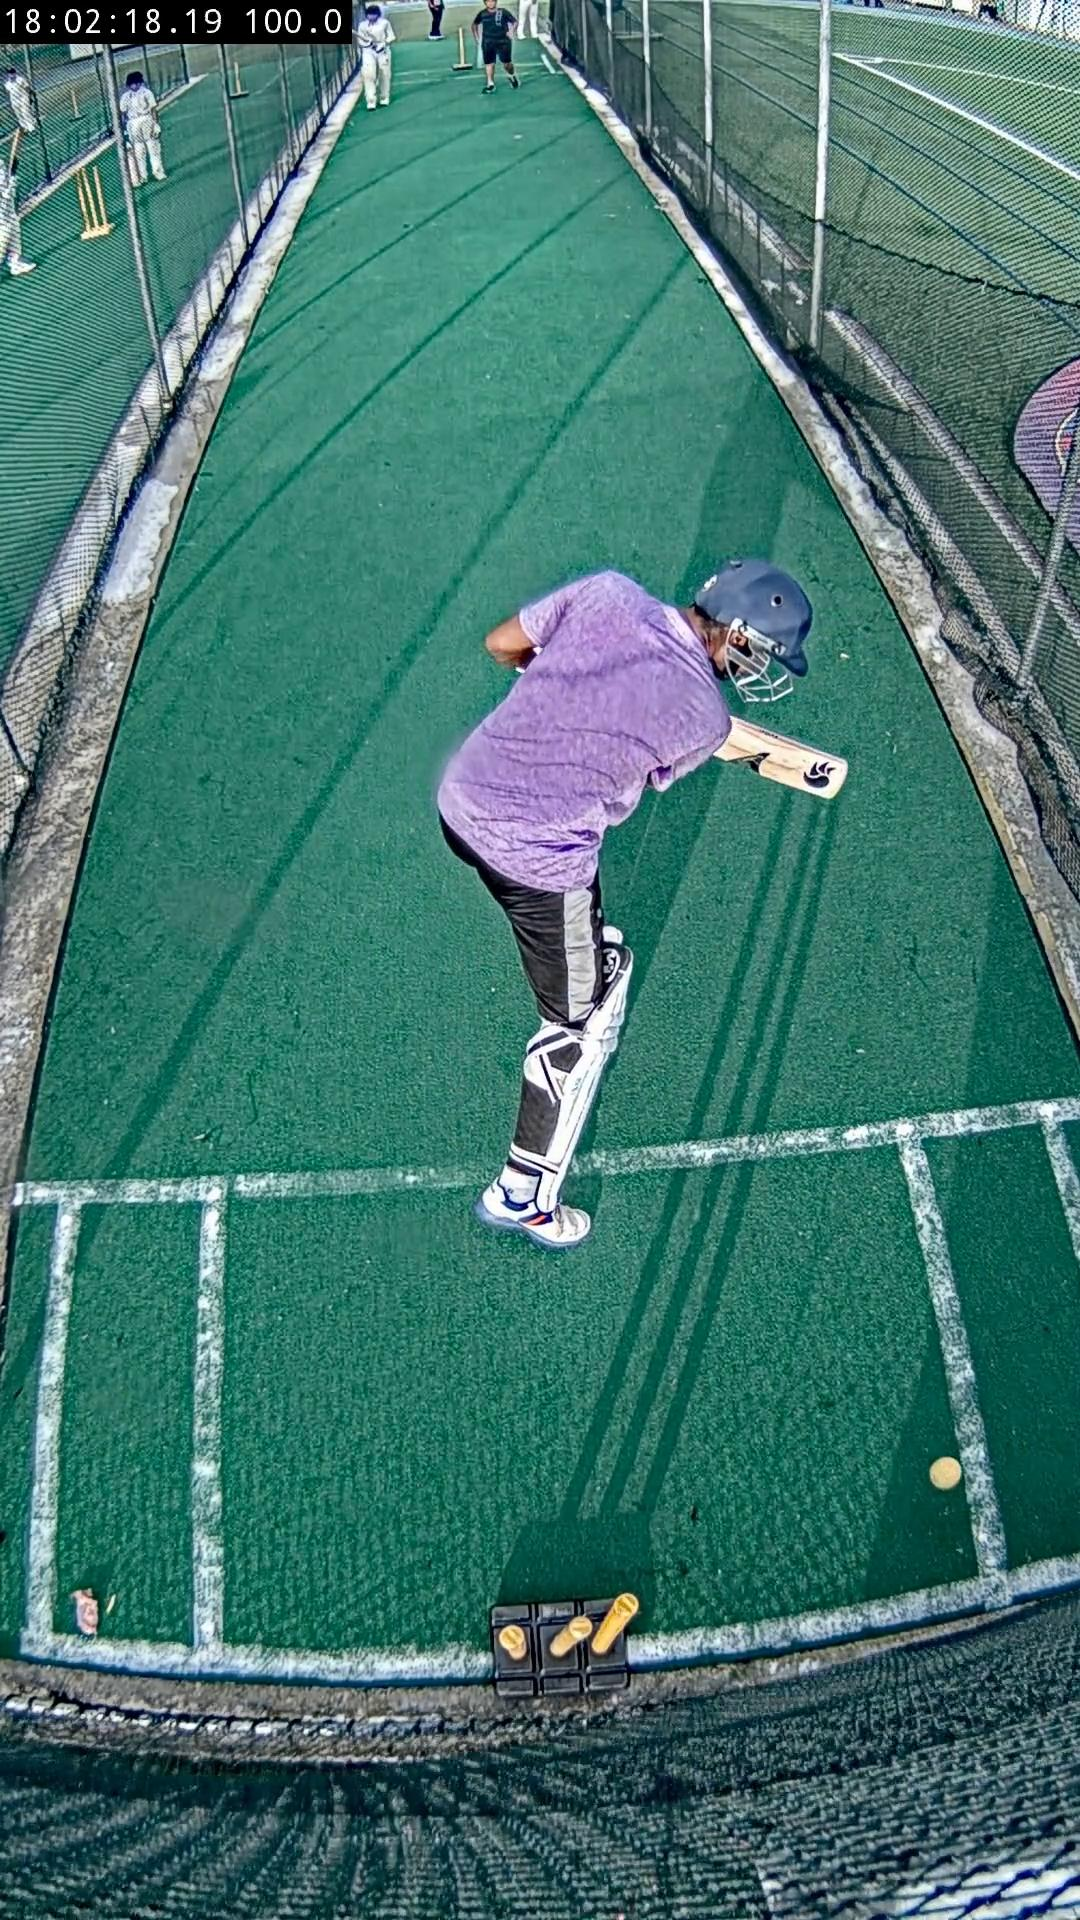ball: (930, 1455, 964, 1489)
bat: (716, 716, 848, 799)
helmet: (694, 559, 814, 702)
pads: (555, 945, 634, 1172)
stumps: (492, 1594, 637, 1698)
